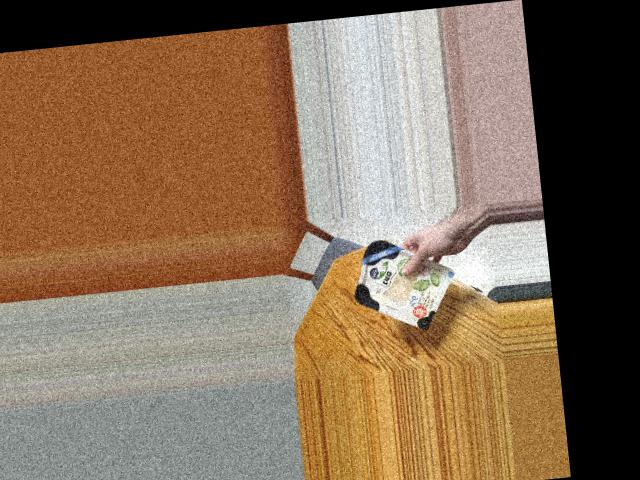cheese: (351, 235, 447, 330)
